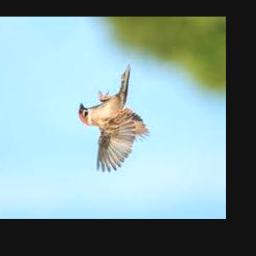Sparrow: (78, 65, 149, 172)
